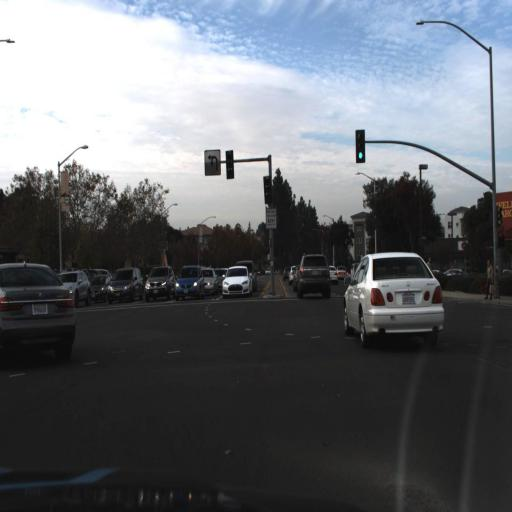car: (342, 252, 447, 359), (0, 250, 74, 360), (52, 266, 92, 306), (298, 251, 331, 296), (26, 262, 68, 296), (105, 267, 142, 304), (173, 262, 204, 303), (144, 260, 172, 304), (144, 264, 175, 300), (222, 264, 252, 294), (336, 252, 355, 284), (90, 273, 108, 305), (240, 258, 258, 290), (202, 265, 218, 299), (328, 254, 343, 290), (288, 260, 298, 290), (319, 252, 328, 282), (283, 258, 293, 284)
trafficLight-Green: (352, 120, 368, 170), (262, 175, 270, 208), (495, 206, 503, 228)
trafficLight-GreenLeft: (260, 169, 274, 209), (224, 148, 238, 182)
